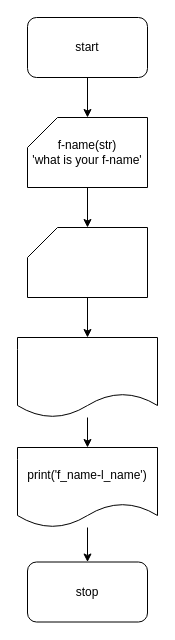
The diagram is 175 pixels wide and 640 high, and some of its shapes have lost their labels. Each missing label, with the centre of its shape:
l-name(str) 'what is your f-name': point (87, 262)
print('*f-name*l-name*): point (87, 377)
